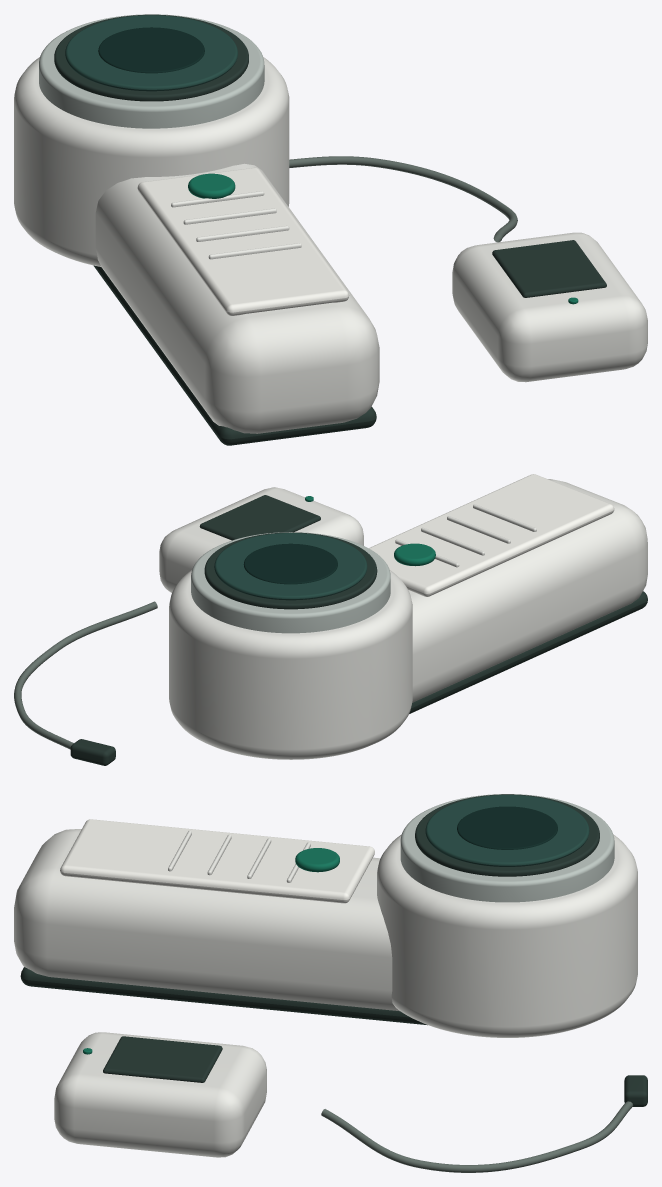
Rendered from service-teledermatologia.glb.
The picture shows the model from 3 angles, top to bottom: view 1: azimuth 30°, elevation 25°; view 2: azimuth 150°, elevation 25°; view 3: azimuth 270°, elevation 25°; orthographic projection. The views are drawn at different scales.
Parts seen in each view (by area): view 1: Dermatoscope_Handgrip, Dermatoscope_Optical_Head, Dermatoscope_Charging_Dock, Dermatoscope_Top_Grip, Dermatoscope_Metal_Lens_Ring, Dermatoscope_Optical_Glass, Dermatoscope_Dock_Recess, Dermatoscope_Lens_Reflection, Dermatoscope_Lens_Inner_Bezel, Dermatoscope_Back_Seam, Dermatoscope_Charging_Cable, Dermatoscope_Power; view 2: Dermatoscope_Optical_Head, Dermatoscope_Handgrip, Dermatoscope_Top_Grip, Dermatoscope_Metal_Lens_Ring, Dermatoscope_Optical_Glass, Dermatoscope_Charging_Dock, Dermatoscope_Dock_Recess, Dermatoscope_Lens_Reflection, Dermatoscope_Lens_Inner_Bezel, Dermatoscope_Back_Seam, Dermatoscope_Charging_Cable, Dermatoscope_USB_Connector (+1 smaller); view 3: Dermatoscope_Handgrip, Dermatoscope_Optical_Head, Dermatoscope_Charging_Dock, Dermatoscope_Top_Grip, Dermatoscope_Metal_Lens_Ring, Dermatoscope_Optical_Glass, Dermatoscope_Back_Seam, Dermatoscope_Dock_Recess, Dermatoscope_Lens_Reflection, Dermatoscope_Lens_Inner_Bezel, Dermatoscope_Charging_Cable, Dermatoscope_Power (+1 smaller).
Part boxes in pixels (x1=…): Dermatoscope_Handgrip: x1=95, y1=163, x2=379, y2=433; Dermatoscope_Optical_Head: x1=14, y1=57, x2=289, y2=266; Dermatoscope_Charging_Dock: x1=452, y1=232, x2=647, y2=382; Dermatoscope_Top_Grip: x1=137, y1=167, x2=349, y2=315; Dermatoscope_Metal_Lens_Ring: x1=39, y1=14, x2=264, y2=128; Dermatoscope_Optical_Glass: x1=65, y1=15, x2=237, y2=91; Dermatoscope_Dock_Recess: x1=492, y1=240, x2=606, y2=297; Dermatoscope_Lens_Reflection: x1=98, y1=27, x2=204, y2=73; Dermatoscope_Lens_Inner_Bezel: x1=54, y1=14, x2=248, y2=101; Dermatoscope_Back_Seam: x1=93, y1=265, x2=376, y2=445; Dermatoscope_Charging_Cable: x1=289, y1=156, x2=517, y2=242; Dermatoscope_Power: x1=188, y1=173, x2=235, y2=198; Dermatoscope_Optical_Head: x1=169, y1=570, x2=412, y2=759; Dermatoscope_Handgrip: x1=408, y1=479, x2=647, y2=702; Dermatoscope_Top_Grip: x1=369, y1=474, x2=614, y2=596; Dermatoscope_Metal_Lens_Ring: x1=191, y1=532, x2=390, y2=633; Dermatoscope_Optical_Glass: x1=214, y1=533, x2=367, y2=600; Dermatoscope_Charging_Dock: x1=159, y1=487, x2=363, y2=592; Dermatoscope_Dock_Recess: x1=199, y1=495, x2=320, y2=540; Dermatoscope_Lens_Reflection: x1=243, y1=543, x2=337, y2=584; Dermatoscope_Lens_Inner_Bezel: x1=204, y1=532, x2=377, y2=609; Dermatoscope_Back_Seam: x1=409, y1=591, x2=647, y2=713; Dermatoscope_Charging_Cable: x1=14, y1=601, x2=157, y2=749; Dermatoscope_USB_Connector: x1=70, y1=739, x2=115, y2=765; Dermatoscope_Handgrip: x1=14, y1=829, x2=399, y2=1011; Dermatoscope_Optical_Head: x1=377, y1=834, x2=637, y2=1037; Dermatoscope_Charging_Dock: x1=54, y1=1032, x2=266, y2=1157; Dermatoscope_Top_Grip: x1=60, y1=819, x2=374, y2=903; Dermatoscope_Metal_Lens_Ring: x1=400, y1=794, x2=614, y2=902; Dermatoscope_Optical_Glass: x1=425, y1=795, x2=589, y2=866; Dermatoscope_Back_Seam: x1=20, y1=967, x2=427, y2=1025; Dermatoscope_Dock_Recess: x1=103, y1=1036, x2=222, y2=1082; Dermatoscope_Lens_Reflection: x1=457, y1=806, x2=557, y2=849; Dermatoscope_Lens_Inner_Bezel: x1=415, y1=794, x2=599, y2=876; Dermatoscope_Charging_Cable: x1=321, y1=1101, x2=633, y2=1172; Dermatoscope_Power: x1=295, y1=848, x2=339, y2=872.
Size of the model in its own units: 2.49 by 1.04 by 2.96.
